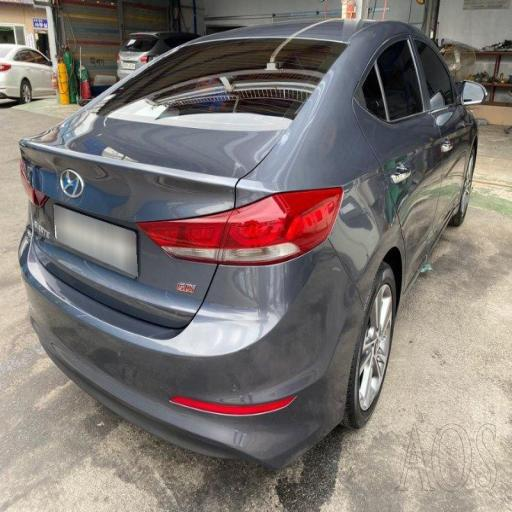broken: (6, 28, 353, 154)
